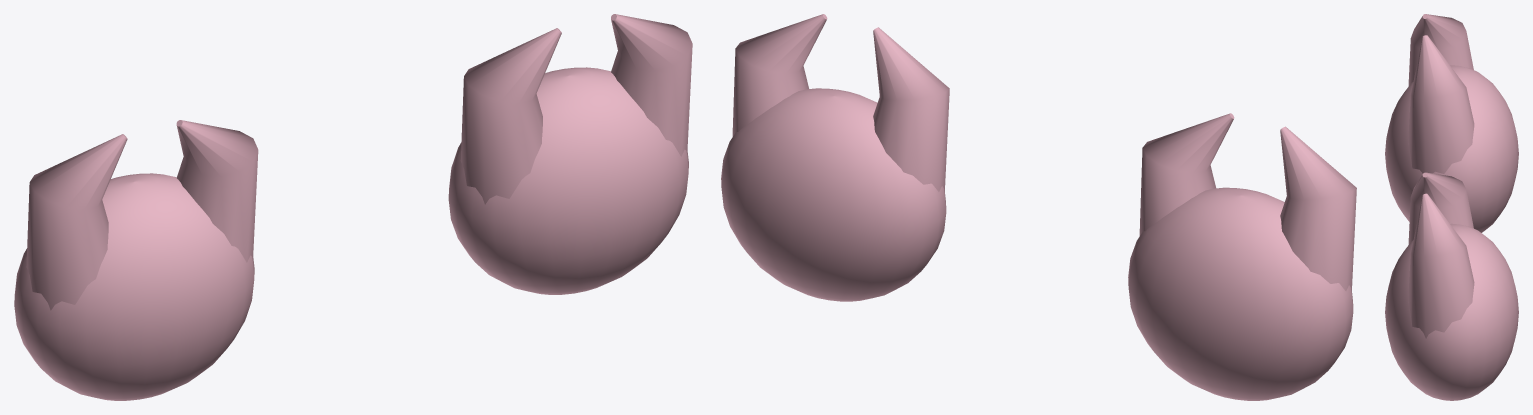
The model's file is familiar_hermit_crab_grip_GripNormalOneIdle.glb.
The picture shows the model from 3 angles, left to right: view 1: azimuth 30°, elevation 25°; view 2: azimuth 150°, elevation 25°; view 3: azimuth 270°, elevation 25°; orthographic projection. The views are drawn at different scales.
Size of the model in its own units: 8.5 by 3.43 by 2.
